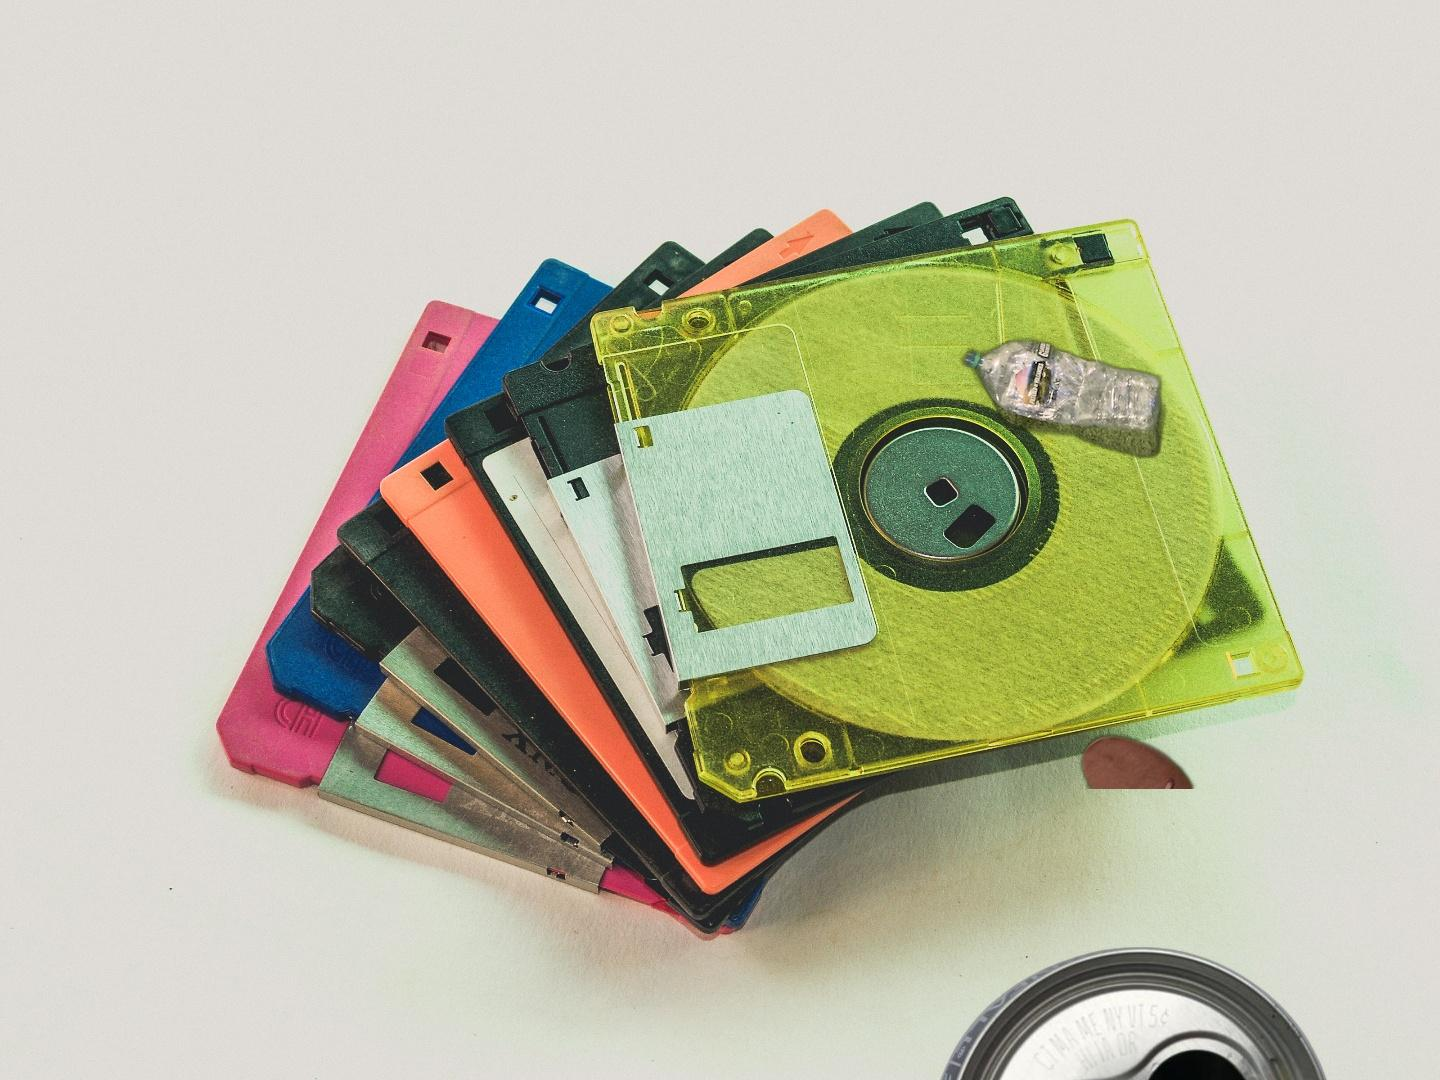metal-cans: (927, 945, 1340, 1080)
plastic-bottles: (955, 334, 1200, 788)
